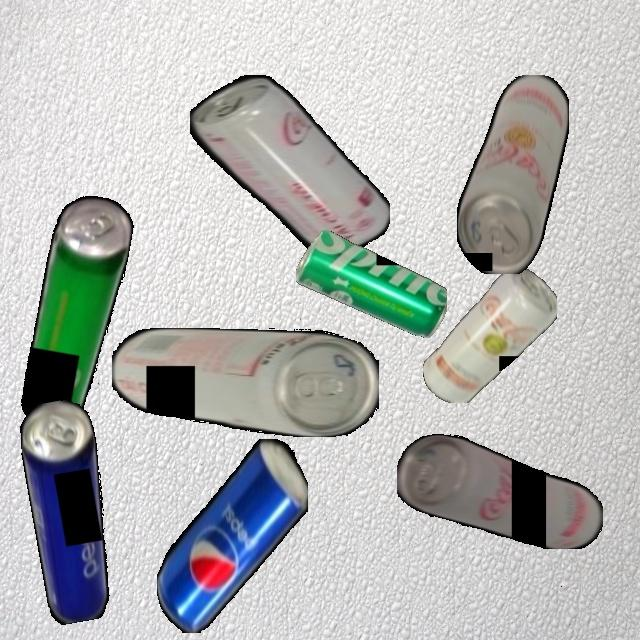debris: (189, 75, 390, 250), (15, 190, 137, 435), (156, 438, 308, 633), (111, 328, 379, 437), (14, 396, 126, 626), (397, 433, 603, 549), (456, 74, 569, 274), (422, 266, 557, 403), (295, 229, 447, 338)
